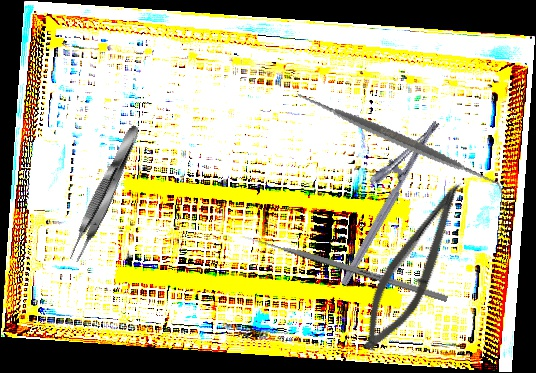Micro Scissor: (349, 169, 474, 362)
Needle Holder: (318, 107, 441, 287)
Pusher: (241, 232, 449, 303)
Spatula Surgical: (294, 38, 504, 242)
Tissue Forceps: (64, 121, 146, 266)
